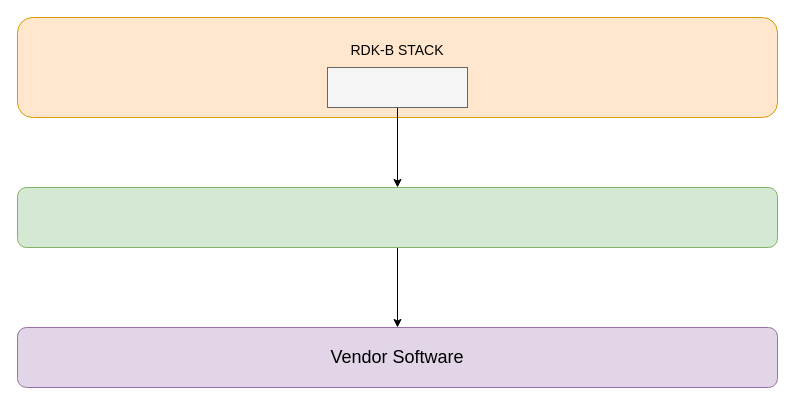
The diagram is 795 pixels wide and 405 high, and some of its shapes have lost their labels. The shapes that lost their labels are listed below. From the top down, each one's centre as x and y in pixels, then its label:
At [397,87]: "CcspMTAAgent".
At [397,217]: "MTA HAL(libhal_mta.so)".
